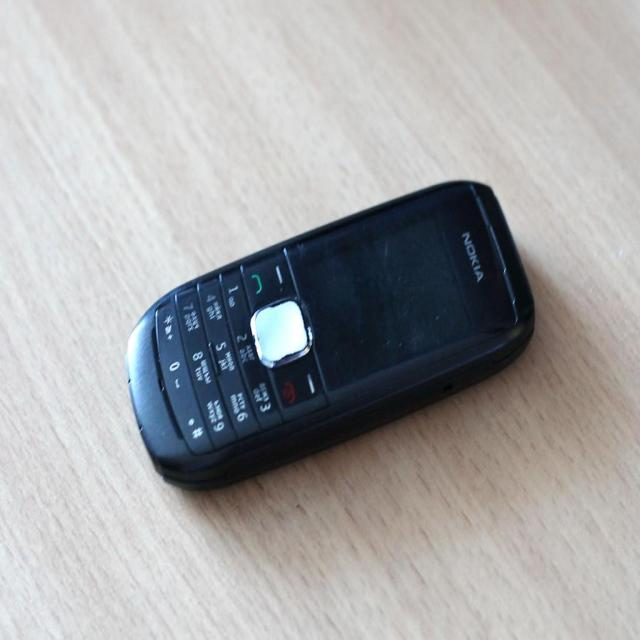Phone: (120, 172, 548, 498)
